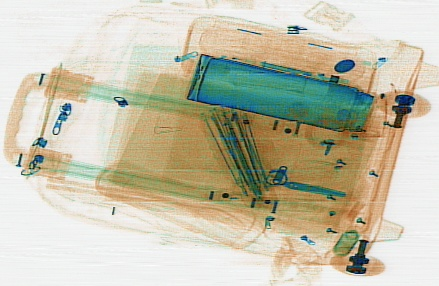scissors: (229, 153, 347, 209)
